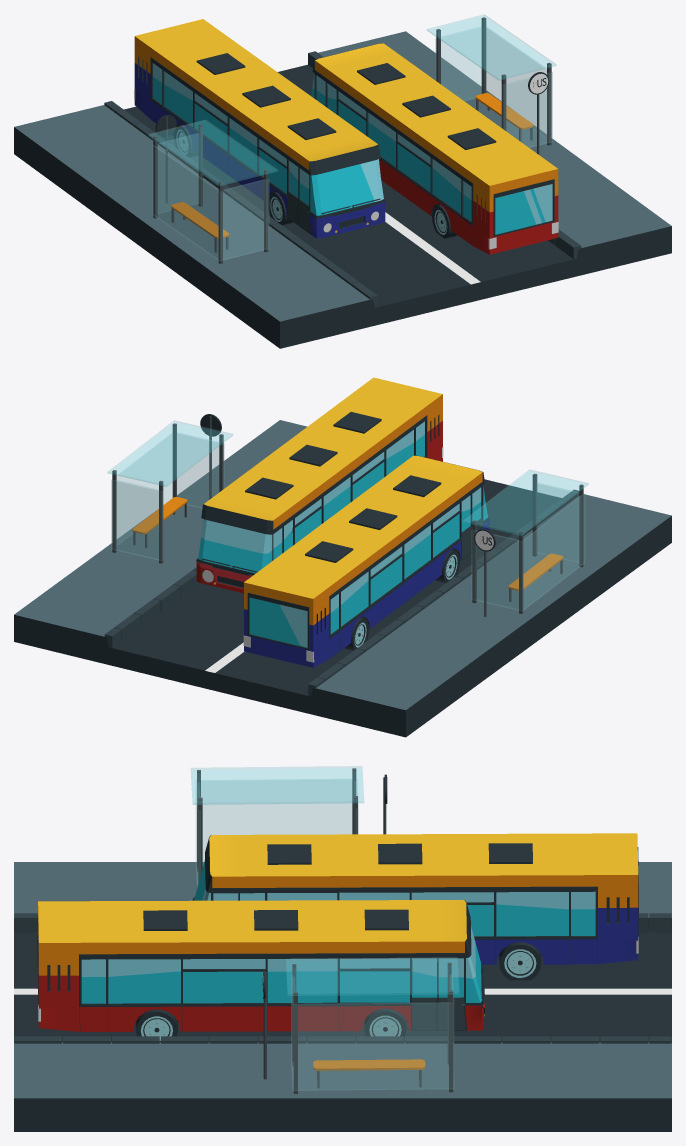
Rendered from model_for_export.fbx.
3 renders of one model, top to bottom at view 1: azimuth 30°, elevation 25°; view 2: azimuth 150°, elevation 25°; view 3: azimuth 270°, elevation 25°, orthographic. The views are drawn at different scales.
Visible parts, largest first — view 1: road_part, bus_body.001, bus_body.002, bus_stop.001, bus_stop.002; view 2: road_part, bus_body.001, bus_body.002, bus_stop.001, bus_stop.002; view 3: road_part, bus_body.002, bus_body.001, bus_stop.002, bus_stop.001.
Boxes of the visible parts, bbox=[...] form: road_part: bbox=[14, 31, 671, 348]; bus_body.001: bbox=[134, 19, 385, 238]; bus_body.002: bbox=[311, 43, 558, 254]; bus_stop.001: bbox=[148, 114, 277, 263]; bus_stop.002: bbox=[427, 14, 556, 154]; road_part: bbox=[14, 420, 671, 737]; bus_body.001: bbox=[243, 455, 490, 667]; bus_body.002: bbox=[196, 377, 443, 593]; bus_stop.001: bbox=[463, 469, 588, 616]; bus_stop.002: bbox=[107, 414, 232, 563]; road_part: bbox=[14, 862, 671, 1131]; bus_body.002: bbox=[37, 900, 484, 1042]; bus_body.001: bbox=[192, 833, 638, 980]; bus_stop.002: bbox=[262, 957, 458, 1093]; bus_stop.001: bbox=[191, 766, 387, 886].
Bounding box in the file's own units: 22.72 × 6.34 × 26.72.
